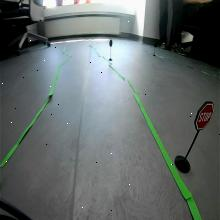stop: (194, 100, 215, 131)
